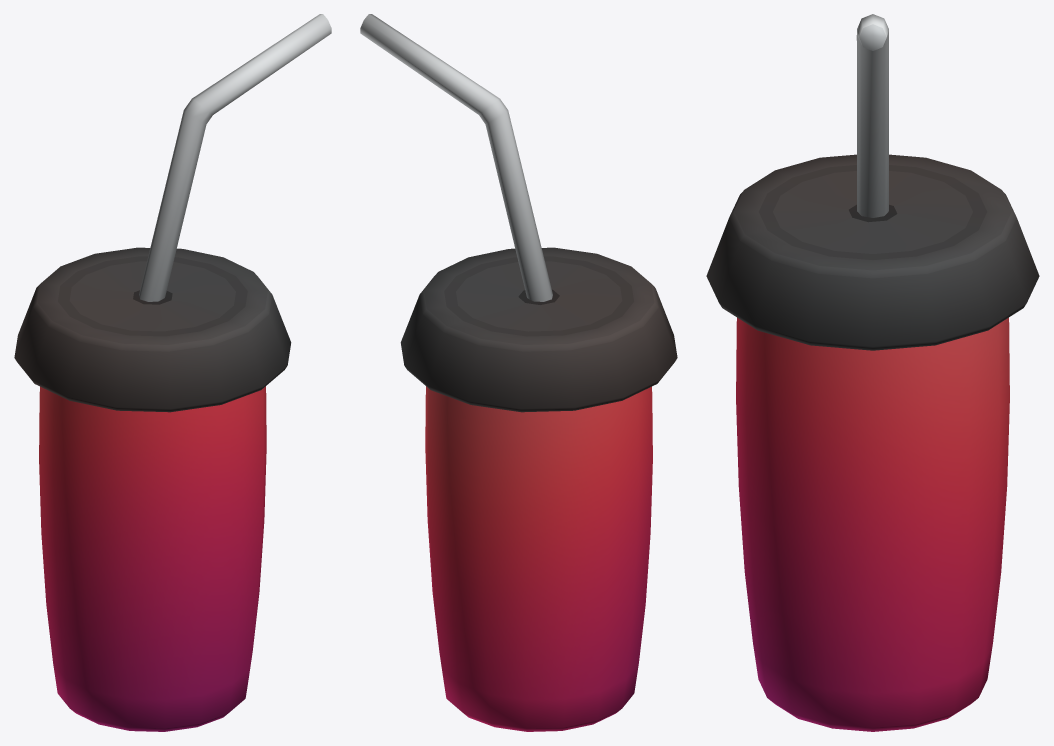
Rendered from soda_003.fbx.
The picture shows the model from 3 angles, left to right: view 1: azimuth 30°, elevation 25°; view 2: azimuth 150°, elevation 25°; view 3: azimuth 270°, elevation 25°; orthographic projection. The views are drawn at different scales.
Visible parts, largest first — view 1: soda_003; view 2: soda_003; view 3: soda_003.
Boxes of the visible parts, bbox=[...] form: soda_003: bbox=[14, 14, 331, 731]; soda_003: bbox=[360, 14, 677, 731]; soda_003: bbox=[706, 14, 1039, 731].
Size of the model in its own units: 13.01 by 10.62 by 26.81.
